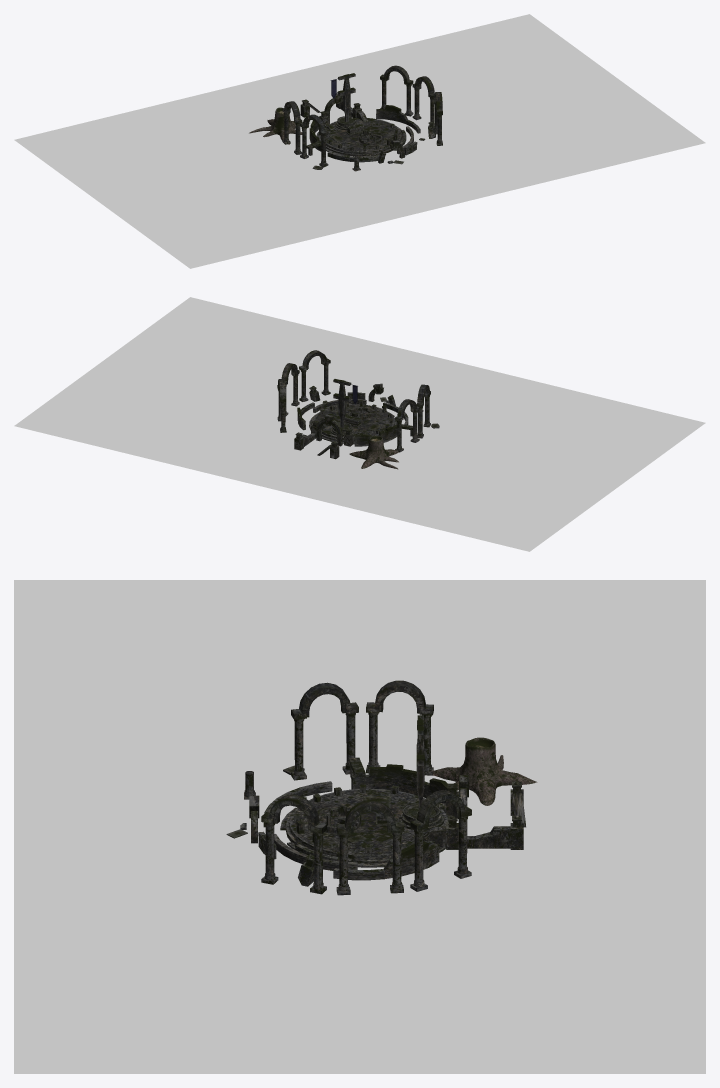
The model's file is altar_ruins_189d92.fbx.
The picture shows the model from 3 angles, top to bottom: view 1: azimuth 30°, elevation 25°; view 2: azimuth 150°, elevation 25°; view 3: azimuth 270°, elevation 25°; orthographic projection. The views are drawn at different scales.
Parts seen in each view (by area): view 1: altar_ruins_189d92; view 2: altar_ruins_189d92; view 3: altar_ruins_189d92.
Part boxes in pixels (x1,y1,x2,y2): altar_ruins_189d92: (14,14,705,268); altar_ruins_189d92: (14,297,705,551); altar_ruins_189d92: (14,580,705,1073).
Bounding box in the file's own units: 20 × 2.45 × 11.84.
Materials: 7 (6 with a texture image).
